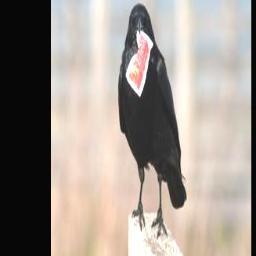Crow: (117, 1, 187, 241)
